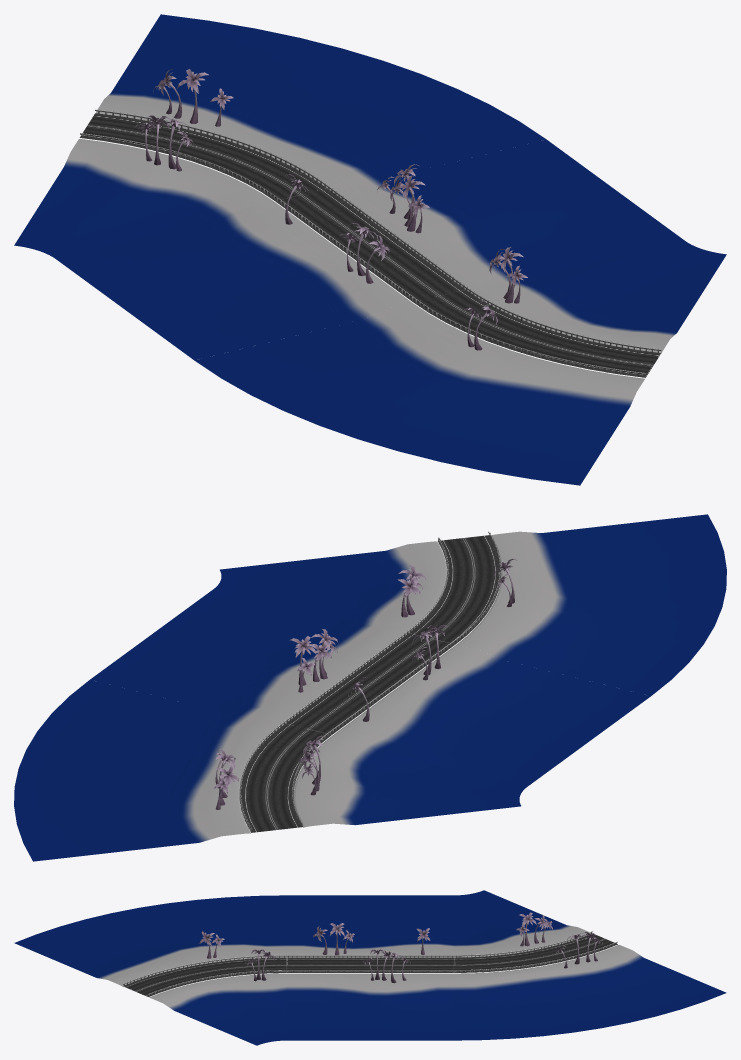
The model's file is miami_road_008.FBX.
3 renders of one model, top to bottom at view 1: azimuth 30°, elevation 25°; view 2: azimuth 150°, elevation 25°; view 3: azimuth 270°, elevation 25°, orthographic. The views are drawn at different scales.
Parts seen in each view (by area): view 1: Plane057; view 2: Plane057; view 3: Plane057.
Part boxes in pixels (x1,y1,x2,y2): Plane057: [14, 14, 726, 485]; Plane057: [14, 514, 726, 861]; Plane057: [14, 890, 726, 1045].
Size of the model in its own units: 3511 by 348 by 6797.
